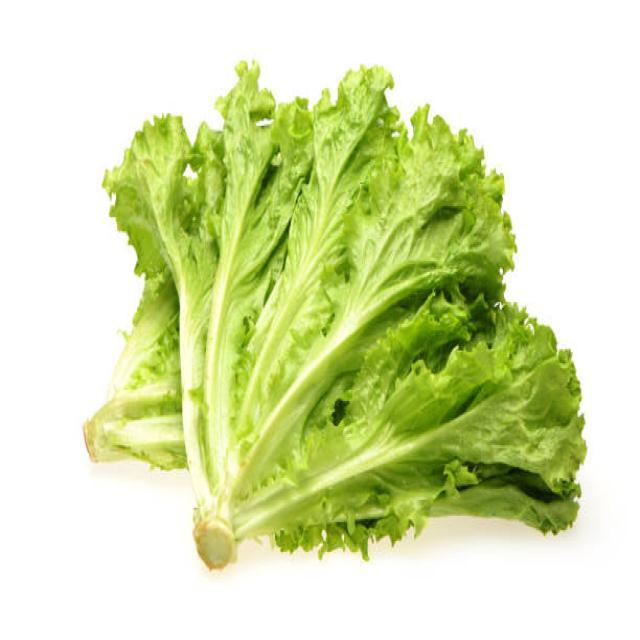Lettuce-Ready-to-Harvest: (74, 66, 586, 565)
